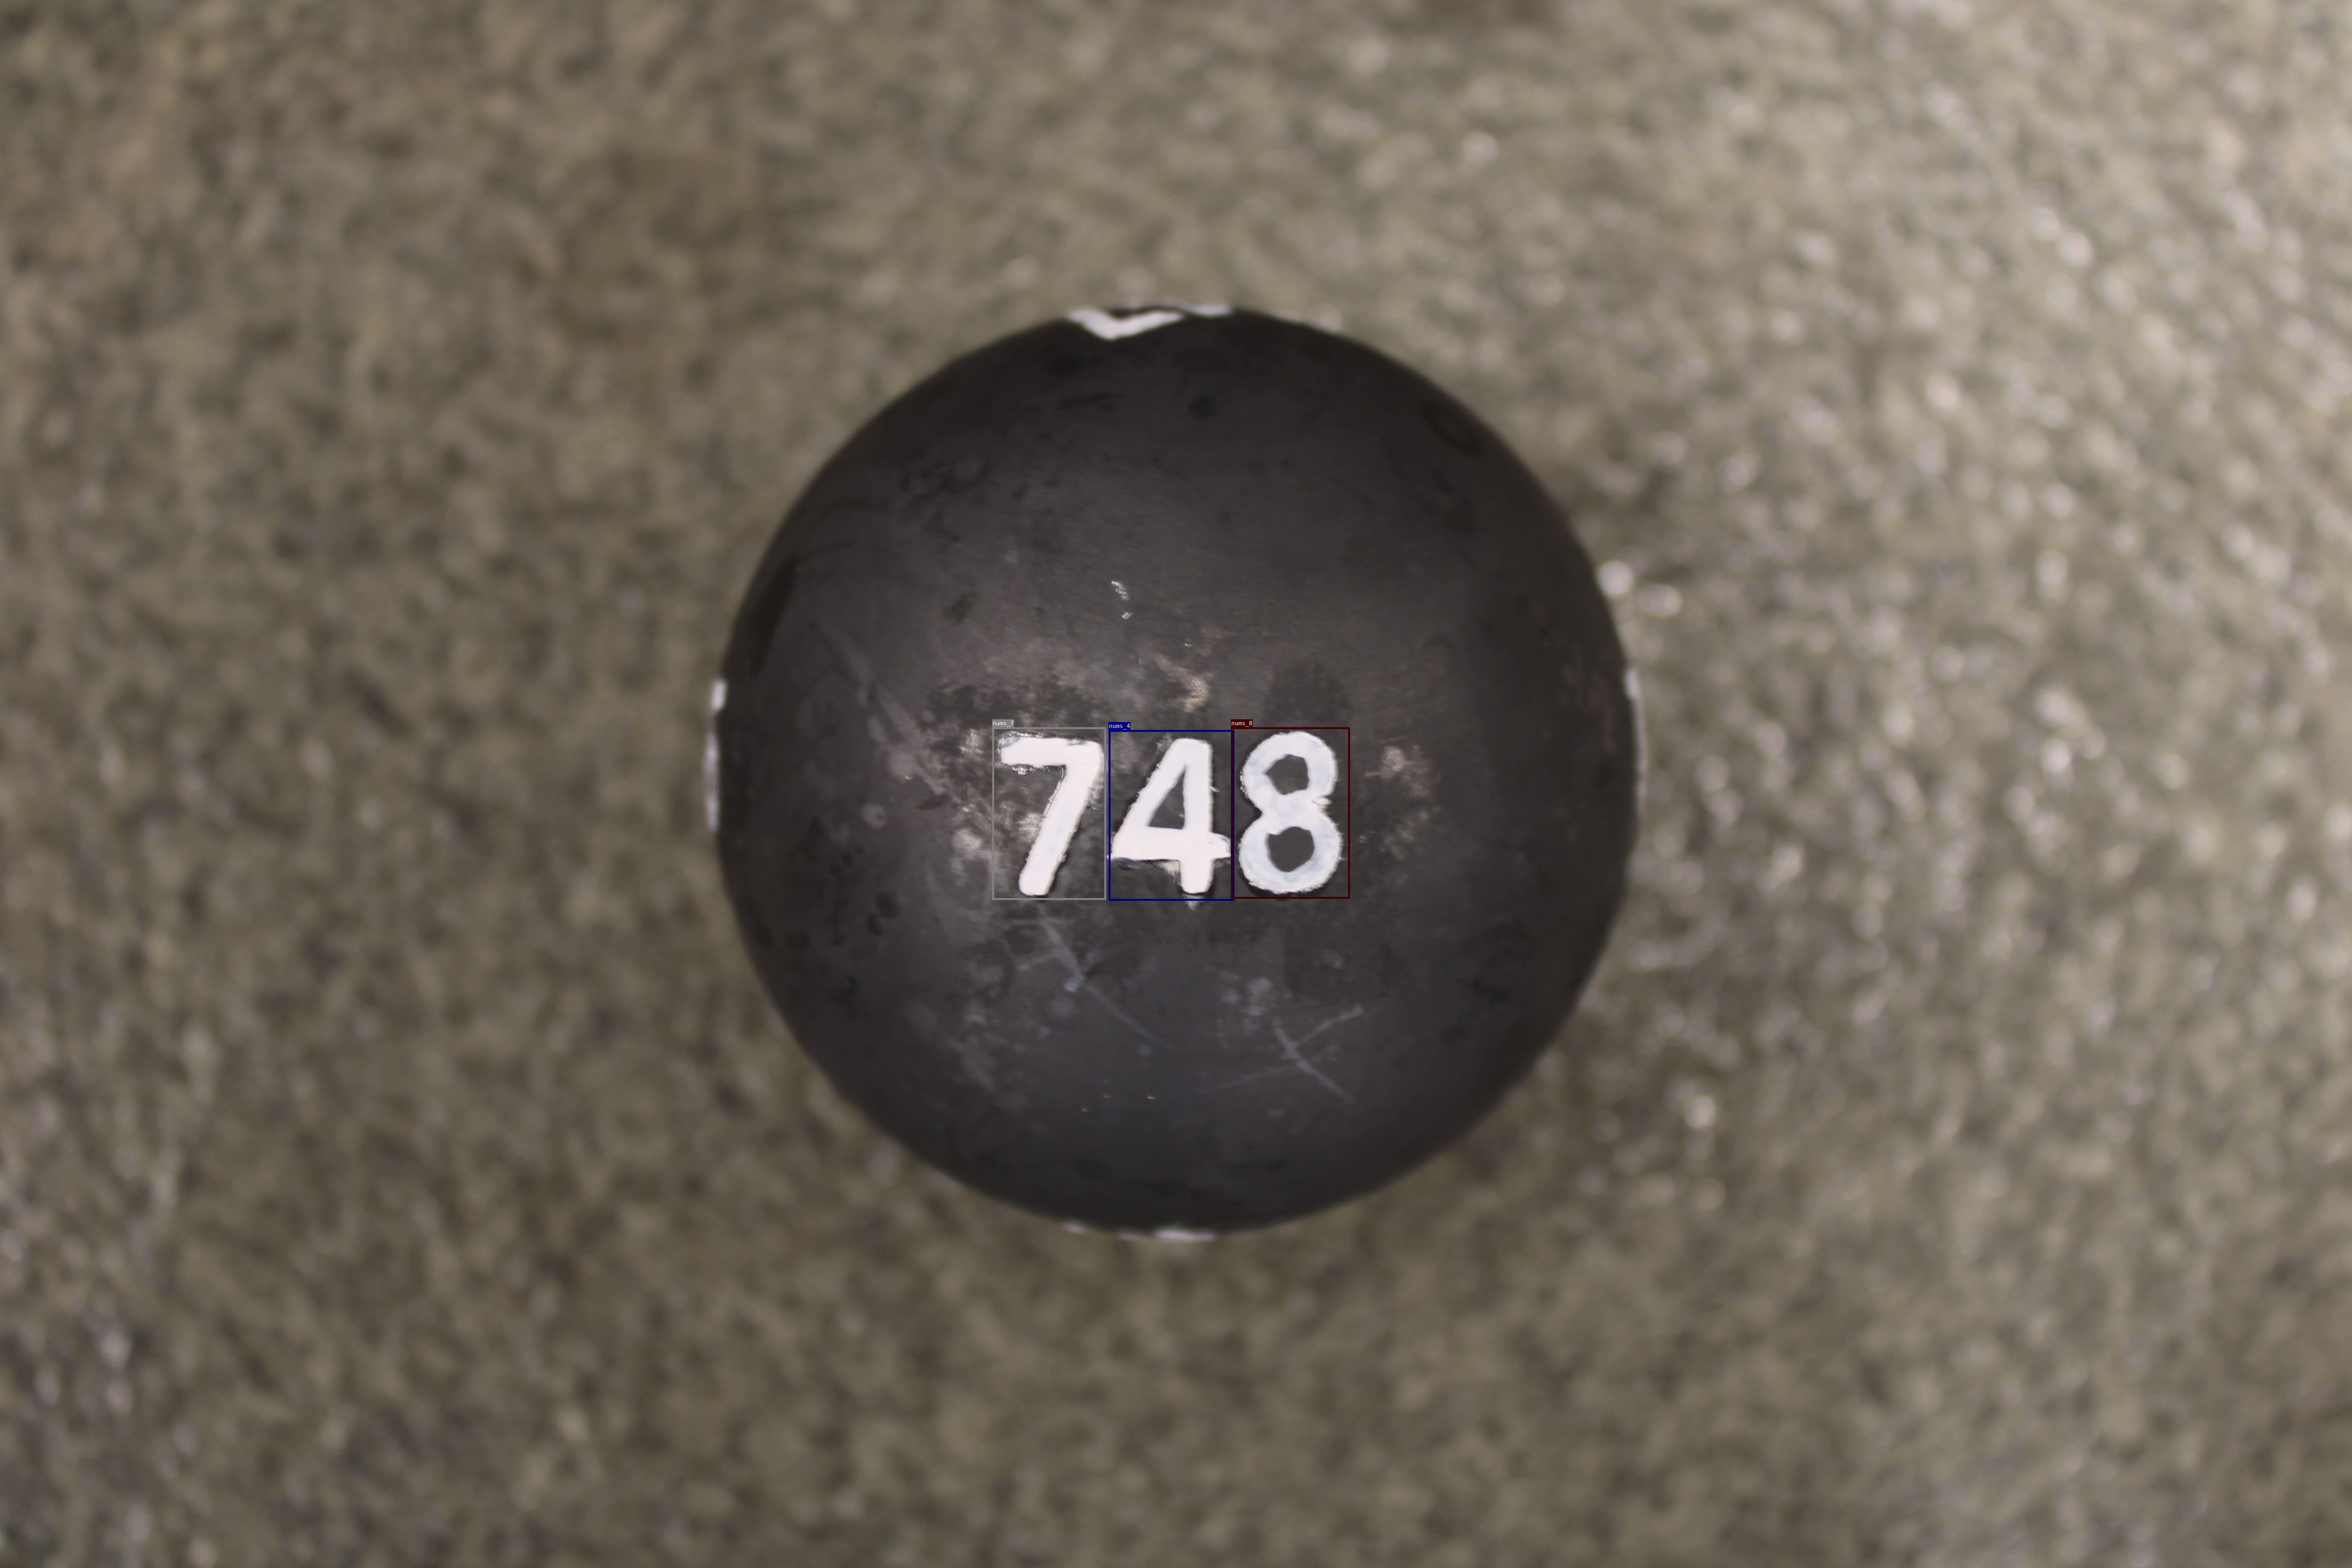nums_4: (1108, 730, 1234, 901)
nums_7: (992, 728, 1106, 900)
nums_8: (1230, 728, 1349, 898)
